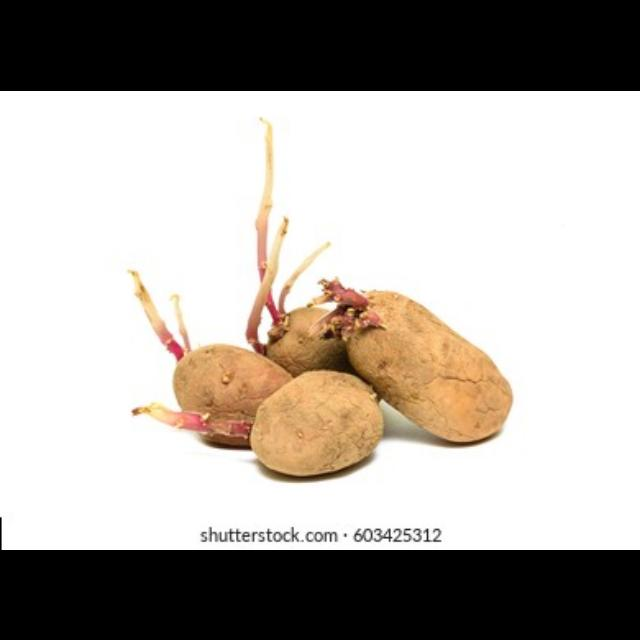Sprouted potato: (216, 134, 410, 412), (311, 267, 535, 457), (94, 285, 298, 457), (233, 358, 393, 484)
